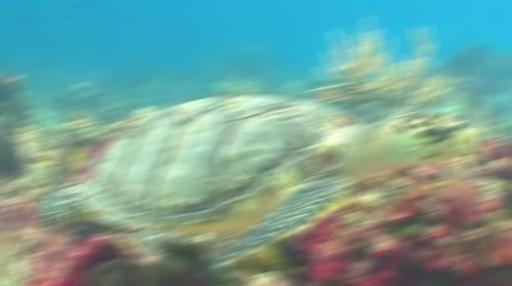Fish: (34, 95, 479, 264)
